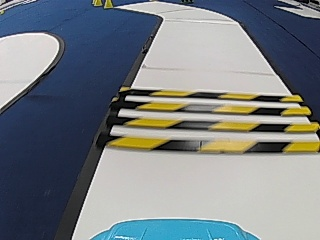bump: (129, 87, 283, 153)
